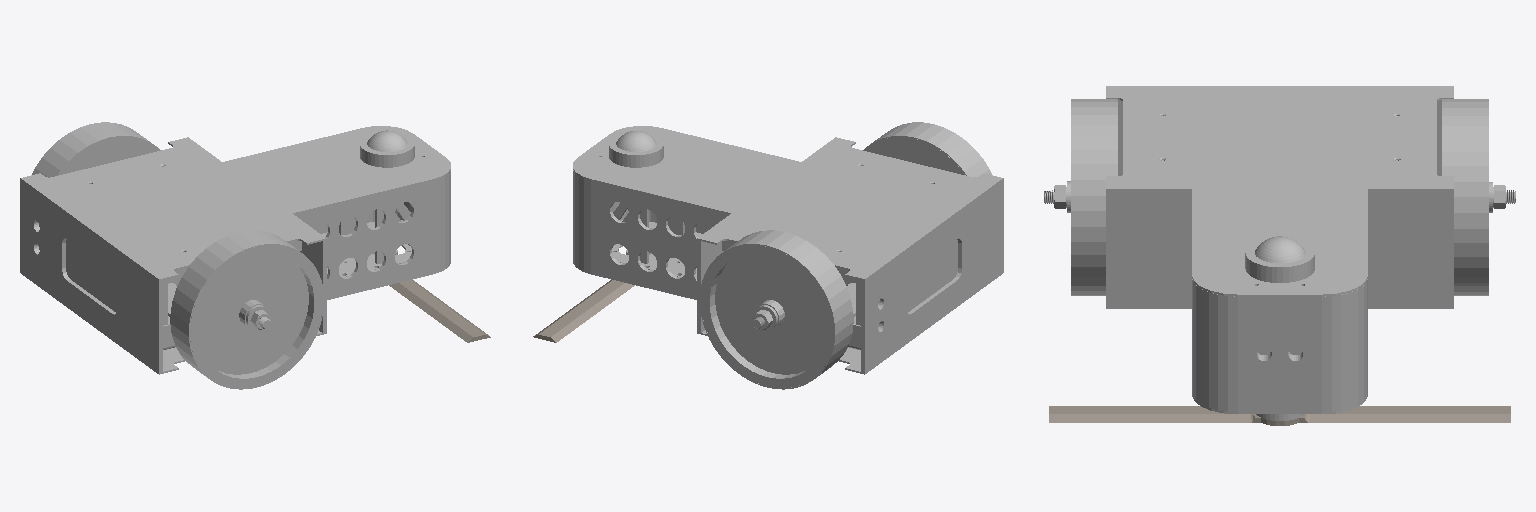
robot.urdf — robotti_7:
<?xml version="1.0" encoding="utf-8"?>
<!-- This URDF was automatically created by SolidWorks to URDF Exporter! Originally created by [author] ([email redacted]) 
     Commit Version: 1.5.1-0-g916b5db  Build Version: 1.5.7152.31018
     For more information, please see http://wiki.ros.org/sw_urdf_exporter -->
<robot
  name="robotti_7">
  <link
    name="base_link">
    <inertial>
      <origin
        xyz="-0.15157 -0.0015068 0.082359"
        rpy="0 0 0" />
      <mass
        value="9.9872" />
      <inertia
        ixx="0.031957"
        ixy="8.2128E-07"
        ixz="-0.00025479"
        iyy="0.051797"
        iyz="-3.0837E-07"
        izz="0.074737" />
    </inertial>
    <visual>
      <origin
        xyz="0 0 0"
        rpy="0 0 0" />
      <geometry>
        <mesh
          filename="package://robotti_7/meshes/base_link.STL" />
      </geometry>
      <material
        name="">
        <color
          rgba="0.75294 0.75294 0.75294 1" />
      </material>
    </visual>
    <collision>
      <origin
        xyz="0 0 0"
        rpy="0 0 0" />
      <geometry>
        <mesh
          filename="package://robotti_7/meshes/base_hitbox.STL" />
      </geometry>
    </collision>
  </link>
  <link
    name="r_wheel_link">
    <inertial>
      <origin
        xyz="-1.3878E-17 -2.7756E-17 0"
        rpy="0 0 0" />
      <mass
        value="0.57875" />
      <inertia
        ixx="0.0012863"
        ixy="-1.2187E-19"
        ixz="-4.5987E-19"
        iyy="0.0024817"
        iyz="-1.4717E-21"
        izz="0.0012863" />
    </inertial>
    <visual>
      <origin
        xyz="0 0 0"
        rpy="0 0 0" />
      <geometry>
        <mesh
          filename="package://robotti_7/meshes/r_wheel_link.STL" />
      </geometry>
      <material
        name="">
        <color
          rgba="0.75294 0.75294 0.75294 1" />
      </material>
    </visual>
    <collision>
      <origin
        xyz="0 0 0"
        rpy="0 0 0" />
      <geometry>
        <mesh
          filename="package://robotti_7/meshes/r_wheel_link.STL" />
      </geometry>
    </collision>
  </link>
  <joint
    name="r_wheel_joint"
    type="continuous">
    <origin
      xyz="-0.26785 -0.16 0.0877"
      rpy="0 0 0" />
    <parent
      link="base_link" />
    <child
      link="r_wheel_link" />
    <axis
      xyz="0 1 0" />
  </joint>
  <link
    name="l_wheel_link">
    <inertial>
      <origin
        xyz="1.3878E-17 0 -1.3878E-17"
        rpy="0 0 0" />
      <mass
        value="0.57875" />
      <inertia
        ixx="0.0012863"
        ixy="2.1004E-19"
        ixz="4.4327E-19"
        iyy="0.0024817"
        iyz="5.784E-20"
        izz="0.0012863" />
    </inertial>
    <visual>
      <origin
        xyz="0 0 0"
        rpy="0 0 0" />
      <geometry>
        <mesh
          filename="package://robotti_7/meshes/l_wheel_link.STL" />
      </geometry>
      <material
        name="">
        <color
          rgba="0.75294 0.75294 0.75294 1" />
      </material>
    </visual>
    <collision>
      <origin
        xyz="0 0 0"
        rpy="0 0 0" />
      <geometry>
        <mesh
          filename="package://robotti_7/meshes/l_wheel_link.STL" />
      </geometry>
    </collision>
  </link>
  <joint
    name="l_wheel_joint"
    type="continuous">
    <origin
      xyz="-0.26785 0.16 0.0877"
      rpy="0 0 0" />
    <parent
      link="base_link" />
    <child
      link="l_wheel_link" />
    <axis
      xyz="0 1 0" />
  </joint>
  <link
    name="weapon_link">
    <inertial>
      <origin
        xyz="8.3267E-17 -9.1012E-17 0.0022845"
        rpy="0 0 0" />
      <mass
        value="0.36276" />
      <inertia
        ixx="0.0046726"
        ixy="6.4429E-13"
        ixz="-2.2024E-20"
        iyy="2.2265E-05"
        iyz="6.5138E-19"
        izz="0.0046934" />
    </inertial>
    <visual>
      <origin
        xyz="0 0 0"
        rpy="0 0 0" />
      <geometry>
        <mesh
          filename="package://robotti_7/meshes/weapon_link.STL" />
      </geometry>
      <material
        name="">
        <color
          rgba="0.65098 0.61961 0.58824 1" />
      </material>
    </visual>
    <collision>
      <origin
        xyz="0 0 0"
        rpy="0 0 0" />
      <geometry>
        <mesh
          filename="package://robotti_7/meshes/weapon_link.STL" />
      </geometry>
    </collision>
  </link>
  <joint
    name="weapon_joint"
    type="continuous">
    <origin
      xyz="0 0 0.005"
      rpy="0 0 0" />
    <parent
      link="base_link" />
    <child
      link="weapon_link" />
    <axis
      xyz="0 0 -1" />
  </joint>
</robot>

--- Render facts (derived) ---
The picture shows the robot from 3 angles, left to right: view 1: azimuth 30°, elevation 25°; view 2: azimuth 150°, elevation 25°; view 3: azimuth 270°, elevation 25°; orthographic projection.
Model robotti_7 with 4 links and 3 joints (3 continuous), rooted at base_link, posed all joints at 0.
Visible links, largest first — view 1: base_link, r_wheel_link, l_wheel_link, weapon_link; view 2: base_link, l_wheel_link, r_wheel_link, weapon_link; view 3: base_link, r_wheel_link, l_wheel_link, weapon_link.
Boxes of the visible links, <box> form: base_link: <box>20,126,450,374</box>; r_wheel_link: <box>170,230,323,389</box>; l_wheel_link: <box>32,122,162,177</box>; weapon_link: <box>372,252,490,342</box>; base_link: <box>573,126,1003,374</box>; l_wheel_link: <box>700,230,853,389</box>; r_wheel_link: <box>863,122,991,176</box>; weapon_link: <box>533,252,651,342</box>; base_link: <box>1044,86,1515,420</box>; r_wheel_link: <box>1071,99,1117,295</box>; l_wheel_link: <box>1442,99,1488,295</box>; weapon_link: <box>1049,406,1510,425</box>.
Bounding box of the posed robot: 0.426 × 0.406 × 0.1727 m (x, y, z).
4 mesh visuals loaded from 4 distinct referenced files (4 binary STL).
